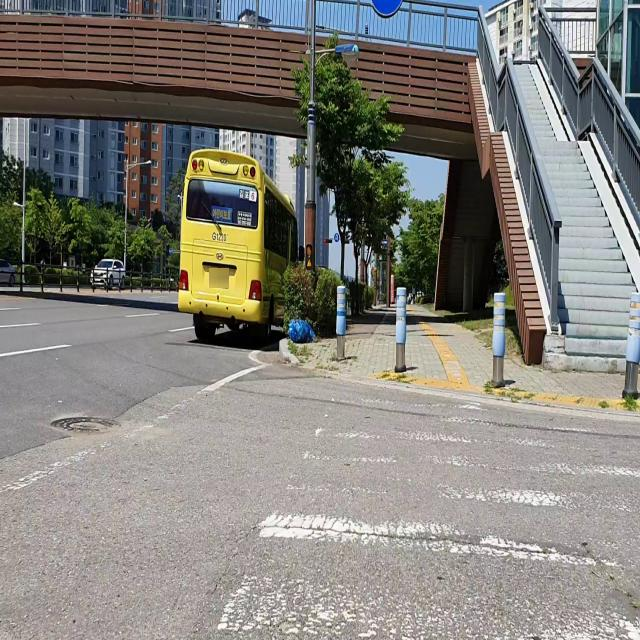횡단보도: (213, 396, 640, 640)
